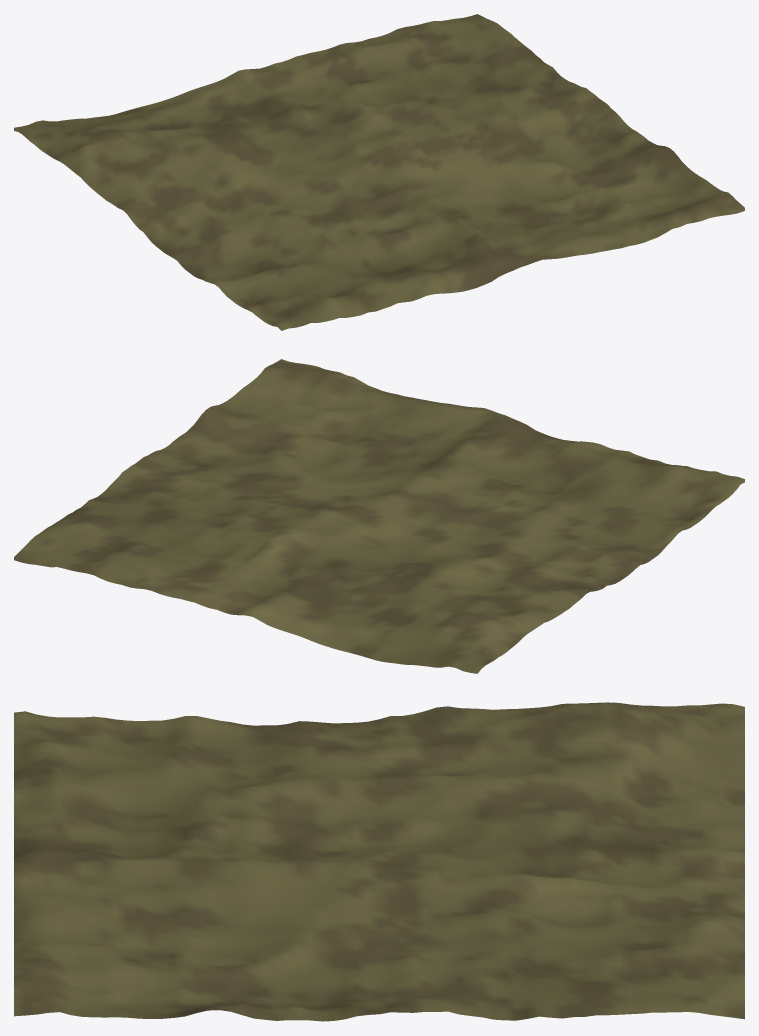
The model's file is land_f_08_01.glb.
The picture shows the model from 3 angles, top to bottom: view 1: azimuth 30°, elevation 25°; view 2: azimuth 150°, elevation 25°; view 3: azimuth 270°, elevation 25°; orthographic projection. The views are drawn at different scales.
Visible parts, largest first — view 1: land_f_08_01; view 2: land_f_08_01; view 3: land_f_08_01.
Part boxes in pixels (bbox=[...]): land_f_08_01: bbox=[14, 14, 744, 330]; land_f_08_01: bbox=[14, 359, 744, 673]; land_f_08_01: bbox=[14, 702, 744, 1021].
Bounding box in the file's own units: 3840 × 228 × 3840.
